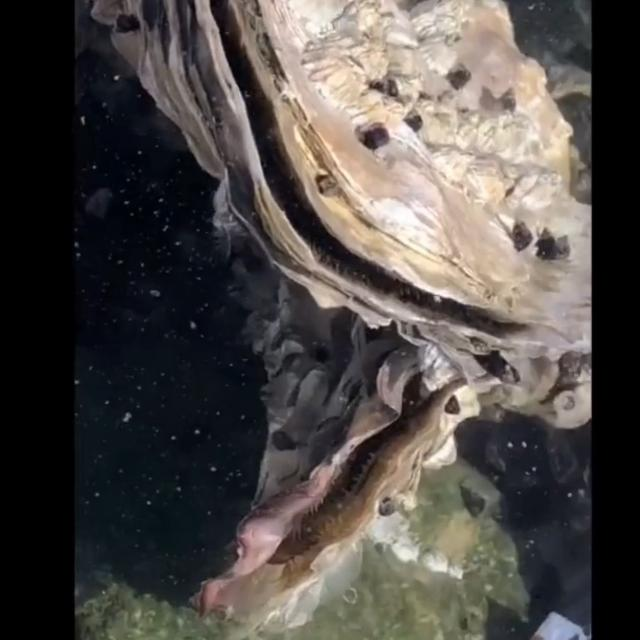Oyster-Open: (93, 0, 597, 378), (192, 254, 512, 640)
